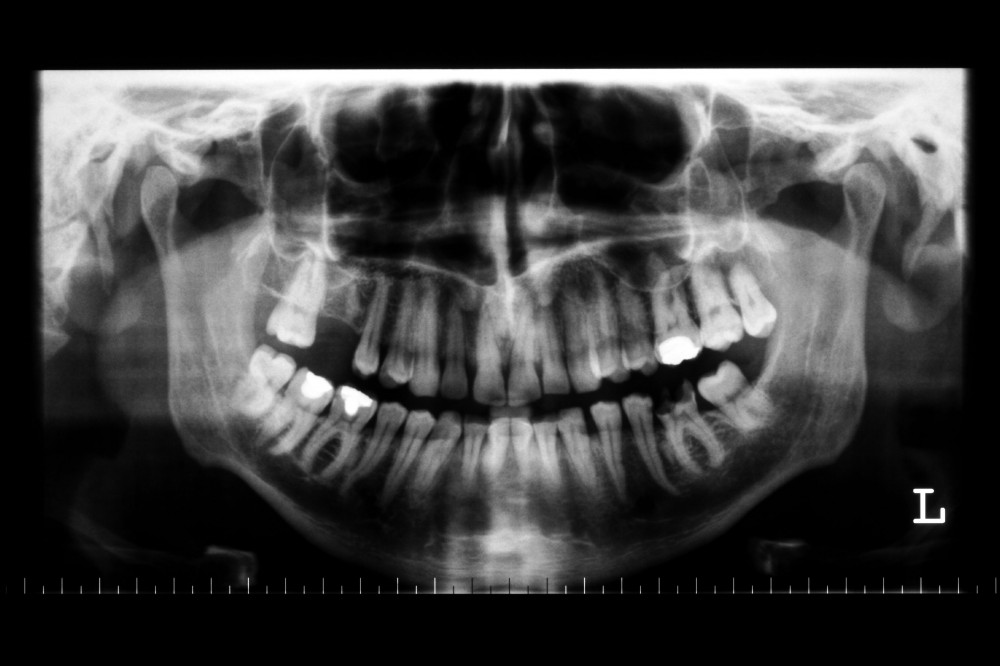canine: (404, 390, 462, 523), (553, 390, 607, 504), (561, 275, 604, 396), (410, 274, 440, 400)
incisor: (503, 289, 545, 409), (469, 286, 508, 412), (535, 288, 572, 406), (457, 389, 490, 517), (440, 291, 472, 407), (480, 397, 512, 510), (531, 406, 563, 507), (508, 399, 537, 499)
molar: (292, 353, 379, 485), (252, 337, 337, 469), (692, 357, 787, 448), (640, 246, 707, 374), (263, 226, 328, 357), (231, 316, 300, 429), (685, 243, 747, 360), (721, 239, 783, 349)
premolar: (342, 358, 408, 518), (375, 382, 437, 526), (618, 377, 681, 501), (347, 248, 392, 385), (584, 386, 631, 515), (585, 267, 633, 392), (613, 263, 657, 381), (380, 258, 418, 391)
